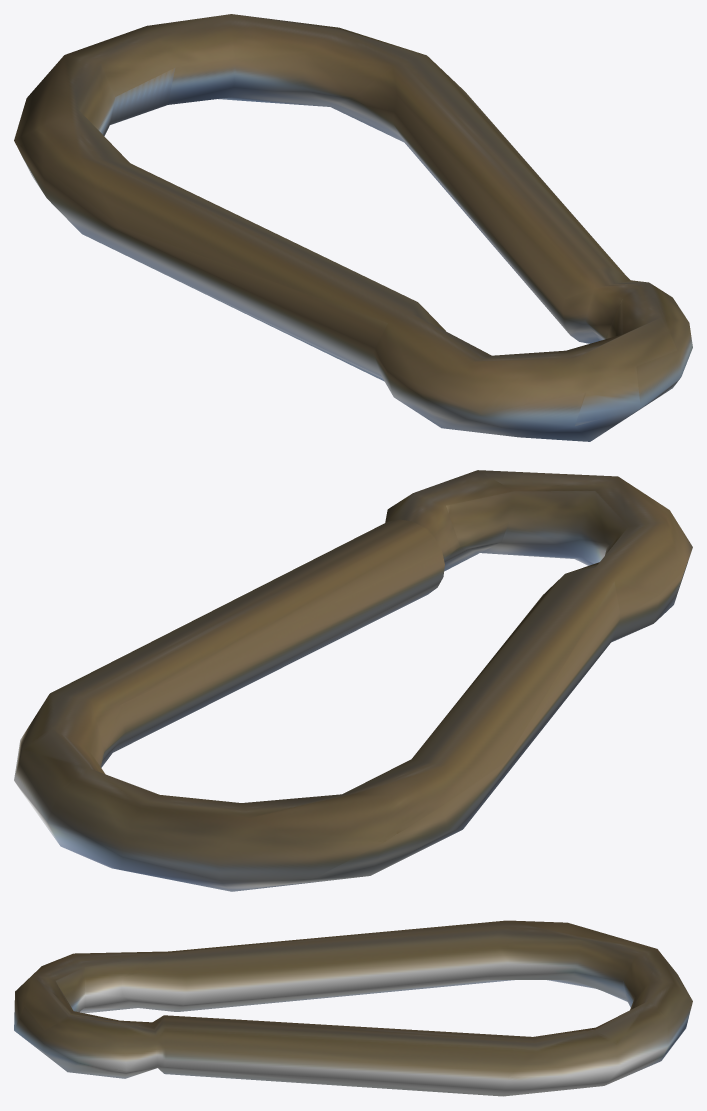
The model's file is WorldItem_AuthenticZ_Carabiner.fbx.
3 renders of one model, top to bottom at view 1: azimuth 30°, elevation 25°; view 2: azimuth 150°, elevation 25°; view 3: azimuth 270°, elevation 25°, orthographic. The views are drawn at different scales.
Visible parts, largest first — view 1: Cylinder; view 2: Cylinder; view 3: Cylinder.
Boxes of the visible parts, box(x1,y1,x2,y2) form: Cylinder: box(14, 14, 692, 441); Cylinder: box(14, 470, 692, 891); Cylinder: box(14, 920, 692, 1096).
Bounding box in the file's own units: 0.0707 × 0.0152 × 0.1438.
